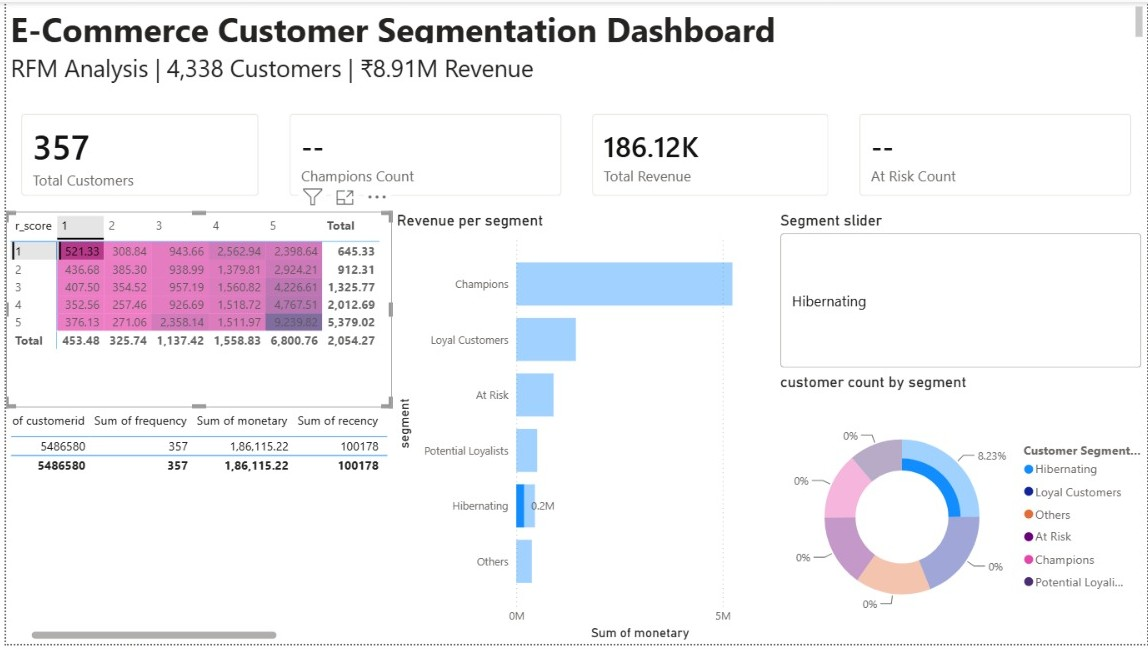

The dashboard page shown, as its layout file describes it:
{"tool":"powerbi","page":{"name":"Page 1","canvas":[1280,720],"ordinal":0},"visuals":[{"type":"cardVisual","fields":{"Data":["Count(powerbi_rfm.customerid)"]},"box":[0,108.2,300.9,126.8],"z":0},{"type":"cardVisual","fields":{"Data":["Sum(powerbi_rfm.monetary)"]},"box":[640.7,108.2,299.2,126.8],"z":1000},{"type":"cardVisual","fields":{"Data":["powerbi_rfm.Champions Count"]},"box":[300.9,108.2,339.8,126.8],"z":2000},{"type":"donutChart","title":"customer count by segment","fields":{"Category":["powerbi_rfm.segment"],"Y":["Count(powerbi_rfm.customerid)"]},"box":[863.9,415.9,415.9,304.3],"z":3000},{"type":"clusteredBarChart","title":"Revenue per segment","fields":{"Category":["powerbi_rfm.segment"],"Y":["Sum(powerbi_rfm.monetary)"]},"box":[432.8,235,431.1,485.2],"z":4000},{"type":"cardVisual","fields":{"Data":["powerbi_rfm.At Risk Count"]},"box":[939.9,108.2,339.8,126.8],"z":5000},{"type":"textbox","box":[0,0,1279.7,50.7],"z":6000},{"type":"textbox","box":[0,50.7,1279.7,57.5],"z":7000},{"type":"pivotTable","fields":{"Rows":["powerbi_rfm.r_score"],"Columns":["powerbi_rfm.f_score"],"Values":["Avg(powerbi_rfm.monetary)"]},"box":[0,235,432.8,219.8],"z":8000},{"type":"tableEx","fields":{"Values":["Sum(powerbi_rfm.customerid)","Sum(powerbi_rfm.frequency)","Sum(powerbi_rfm.monetary)","Sum(powerbi_rfm.recency)","Sum(powerbi_rfm.rfm_score)","powerbi_rfm.segment"]},"box":[0,454.8,432.8,265.4],"z":9000},{"type":"advancedSlicerVisual","title":"Segment slider","fields":{"Values":["powerbi_rfm.segment"]},"box":[863.9,235,415.9,180.9],"z":10000}]}

Visuals, with their boxes in screenshot pixels (x1, y1, x2, y2), scaled from the page's 1280x720 canvas onto the 1148x650 screenshot:
cardVisual - Count(powerbi_rfm.customerid): box(0, 98, 270, 212)
cardVisual - Sum(powerbi_rfm.monetary): box(575, 98, 843, 212)
cardVisual - powerbi_rfm.Champions Count: box(270, 98, 575, 212)
"customer count by segment" donutChart: box(775, 375, 1147, 649)
"Revenue per segment" clusteredBarChart: box(388, 212, 775, 649)
cardVisual - powerbi_rfm.At Risk Count: box(843, 98, 1147, 212)
textbox: box(0, 0, 1147, 46)
textbox: box(0, 46, 1147, 98)
pivotTable - powerbi_rfm.r_score x powerbi_rfm.f_score: box(0, 212, 388, 411)
tableEx - Sum(powerbi_rfm.customerid) x Sum(powerbi_rfm.frequency): box(0, 411, 388, 649)
"Segment slider" advancedSlicerVisual: box(775, 212, 1147, 375)
